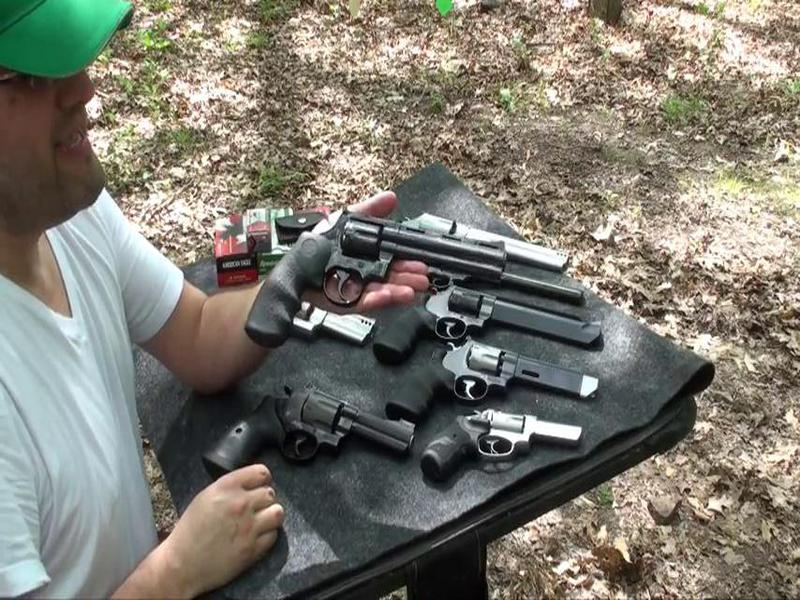Revolver: (237, 206, 499, 367)
